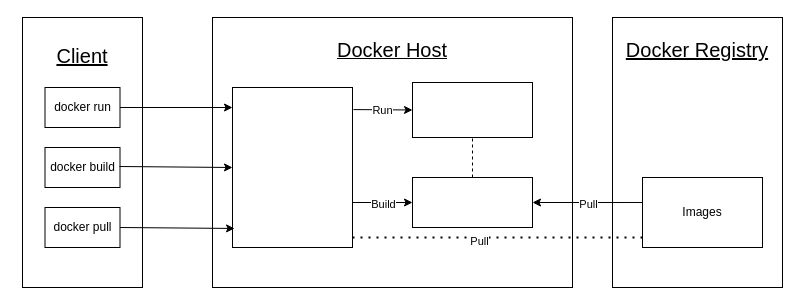
The diagram is 800 pixels wide and 305 high, and some of its shapes have lost their labels. The centre of each missing label's shape, as x and y in pixels:
Docker Container: point 472,110
Docker Daemon: point 292,167
Docker Images (Lokal): point 472,202
